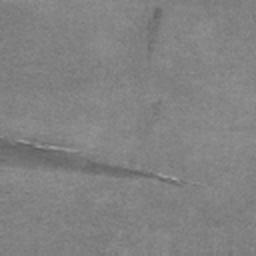Finishing roll printing: (0, 138, 182, 186), (146, 6, 164, 61)
